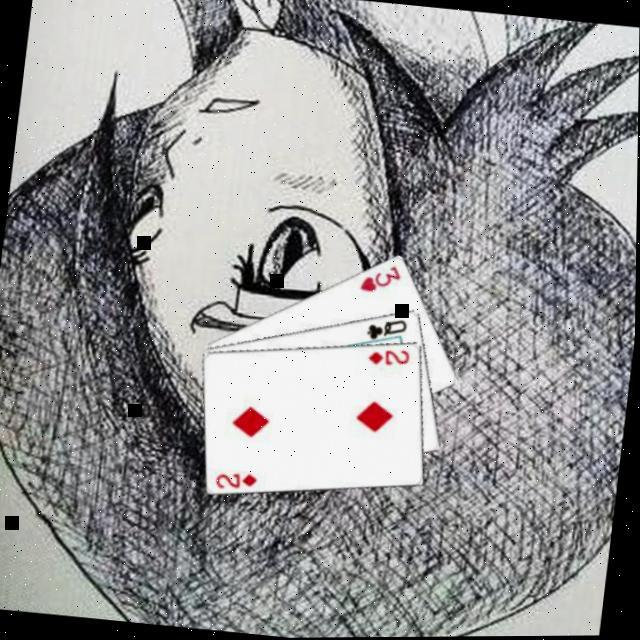2D: (368, 344, 416, 372), (215, 468, 263, 496)
3H: (358, 261, 406, 300)
QC: (364, 314, 412, 348)
